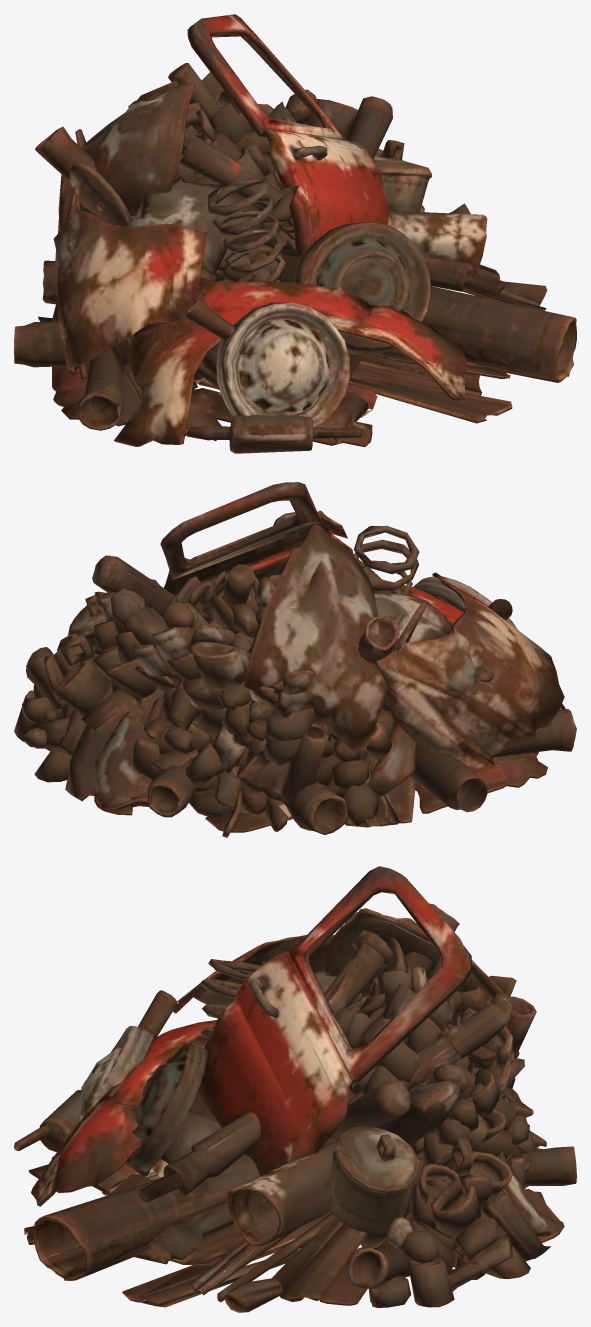
File: node_scrap_pile.glb
3 views of the same model, one above another, from view 1: azimuth 30°, elevation 25°; view 2: azimuth 150°, elevation 25°; view 3: azimuth 270°, elevation 25° (orthographic). The views are drawn at different scales.
Size of the model in its own units: 0.6221 by 0.3721 by 0.602.
Materials: 1 (1 with a texture image).
